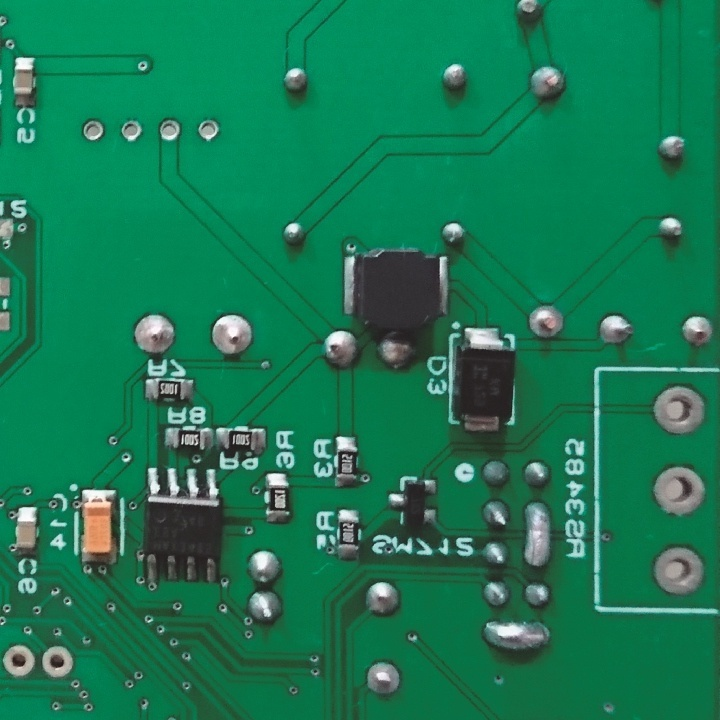F: (650, 539, 707, 598), (650, 462, 707, 518), (650, 383, 709, 435), (208, 308, 255, 358), (131, 310, 179, 357), (361, 657, 402, 701), (524, 303, 568, 341), (596, 310, 636, 348), (39, 642, 77, 682), (1, 641, 36, 680), (681, 313, 713, 349), (194, 116, 222, 145), (79, 116, 106, 144), (157, 115, 184, 143), (119, 117, 144, 145)
P: (479, 615, 552, 654), (519, 497, 555, 573)
